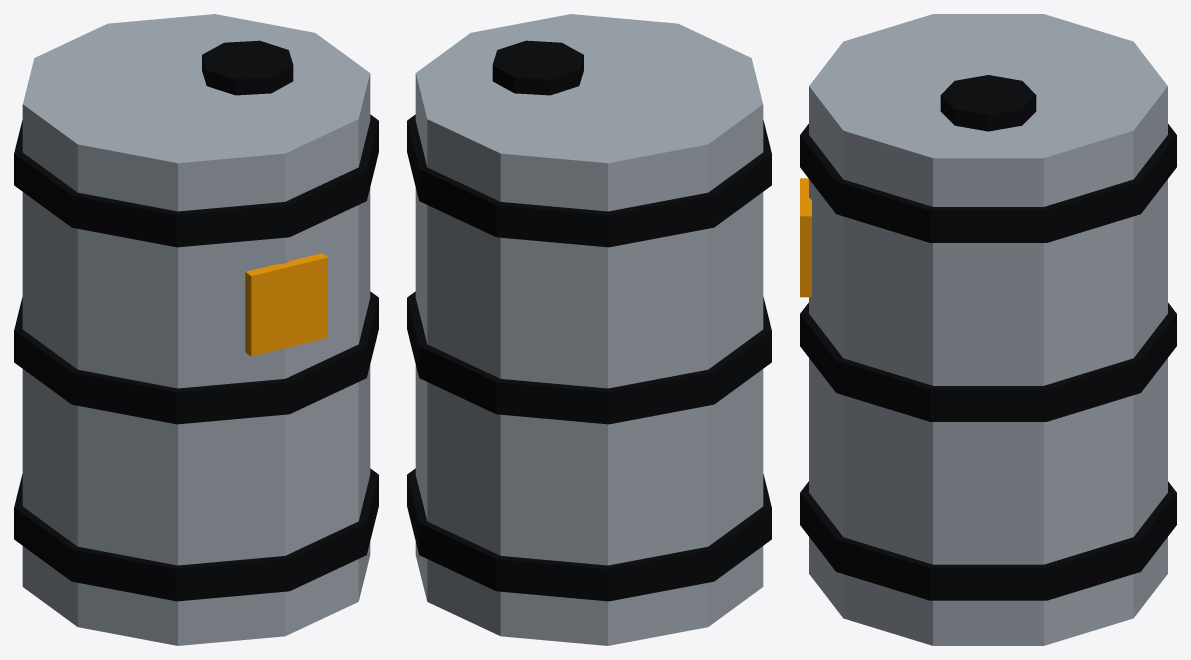
The model's file is barrel.obj.
The picture shows the model from 3 angles, left to right: view 1: azimuth 30°, elevation 25°; view 2: azimuth 150°, elevation 25°; view 3: azimuth 270°, elevation 25°; orthographic projection.
Visible parts, largest first — view 1: barrel; view 2: barrel; view 3: barrel.
Boxes of the visible parts, left/top/right/bottom form: barrel: left=14, top=14, right=378, bottom=645; barrel: left=407, top=14, right=771, bottom=645; barrel: left=800, top=14, right=1176, bottom=645.
Bounding box in the file's own units: 0.5992 × 0.93 × 0.63.
